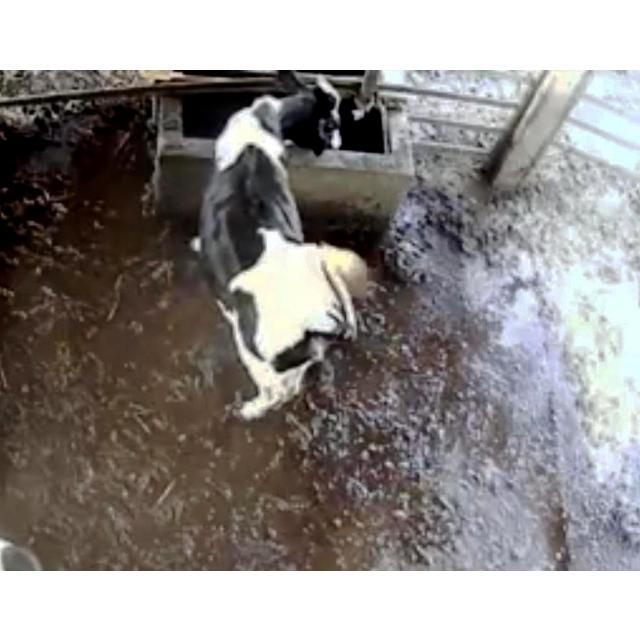drink: (202, 72, 358, 210)
